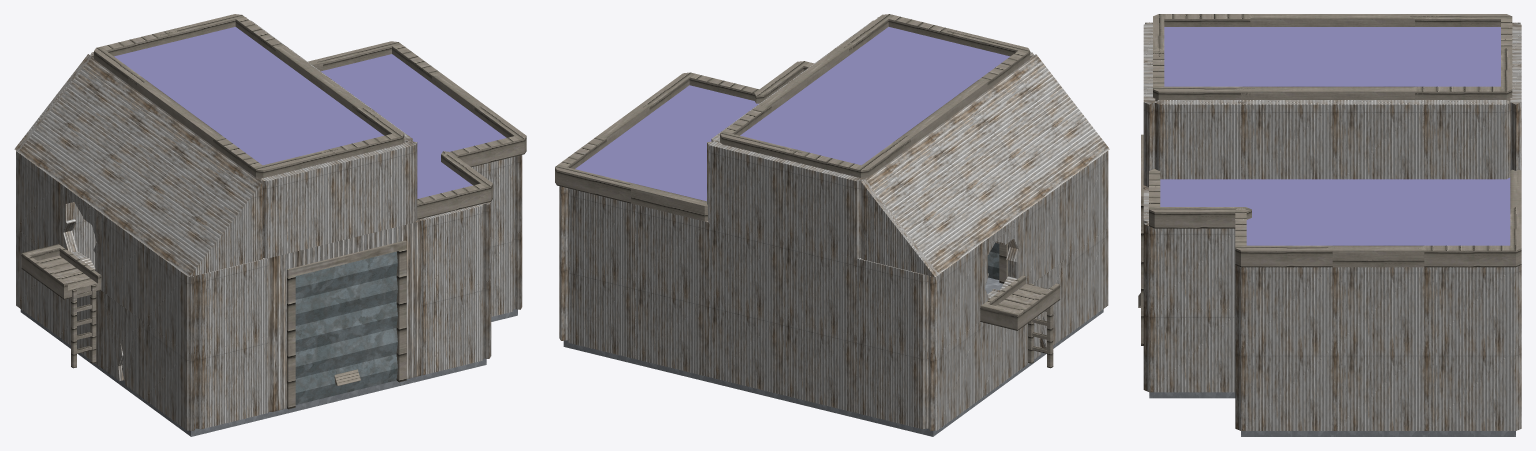
File: Warehouse 2.fbx
3 renders of one model, left to right at view 1: azimuth 30°, elevation 25°; view 2: azimuth 150°, elevation 25°; view 3: azimuth 270°, elevation 25°, orthographic. The views are drawn at different scales.
Parts seen in each view (by area): view 1: mergedBlocks; view 2: mergedBlocks; view 3: mergedBlocks.
Part boxes in pixels (left/top/right/bottom): mergedBlocks: left=14, top=14, right=526, bottom=436; mergedBlocks: left=555, top=14, right=1109, bottom=436; mergedBlocks: left=1138, top=14, right=1521, bottom=436.
Bounding box in the file's own units: 56.84 × 32 × 41.84.
Materials: 5 (4 with a texture image).
